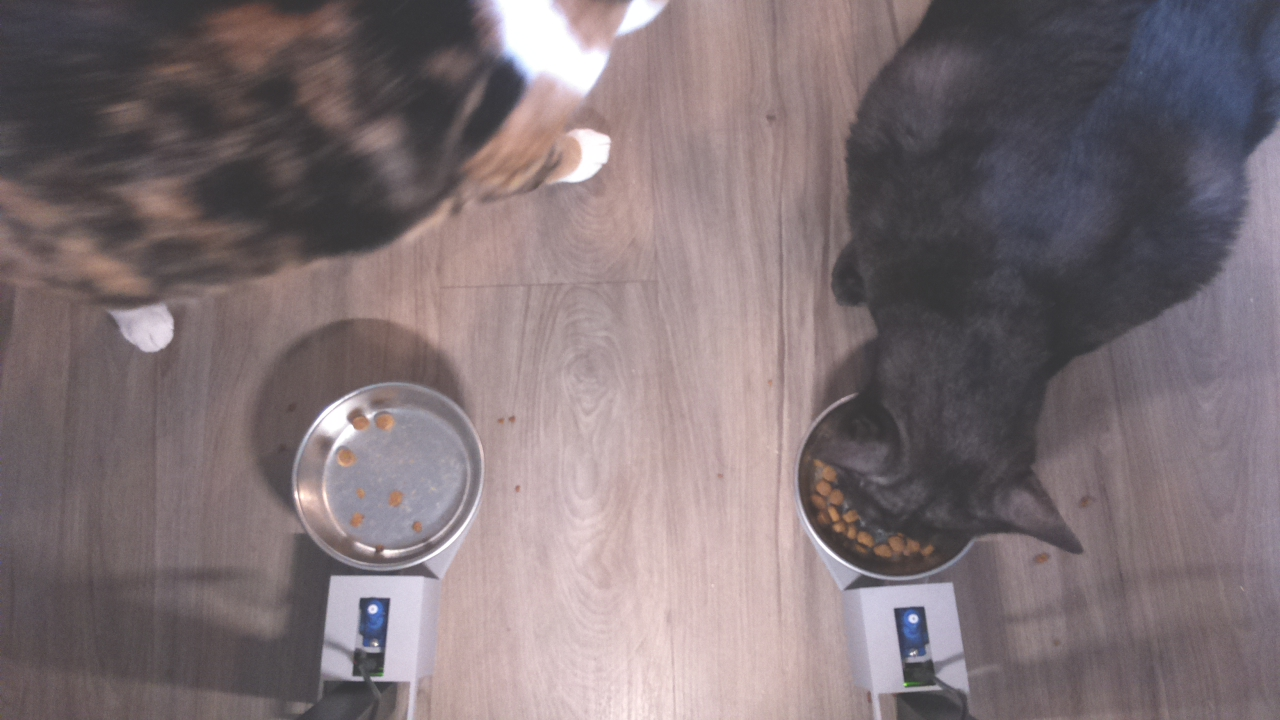open_bowl: (287, 375, 494, 576)
saki_eating: (789, 312, 1101, 585)
